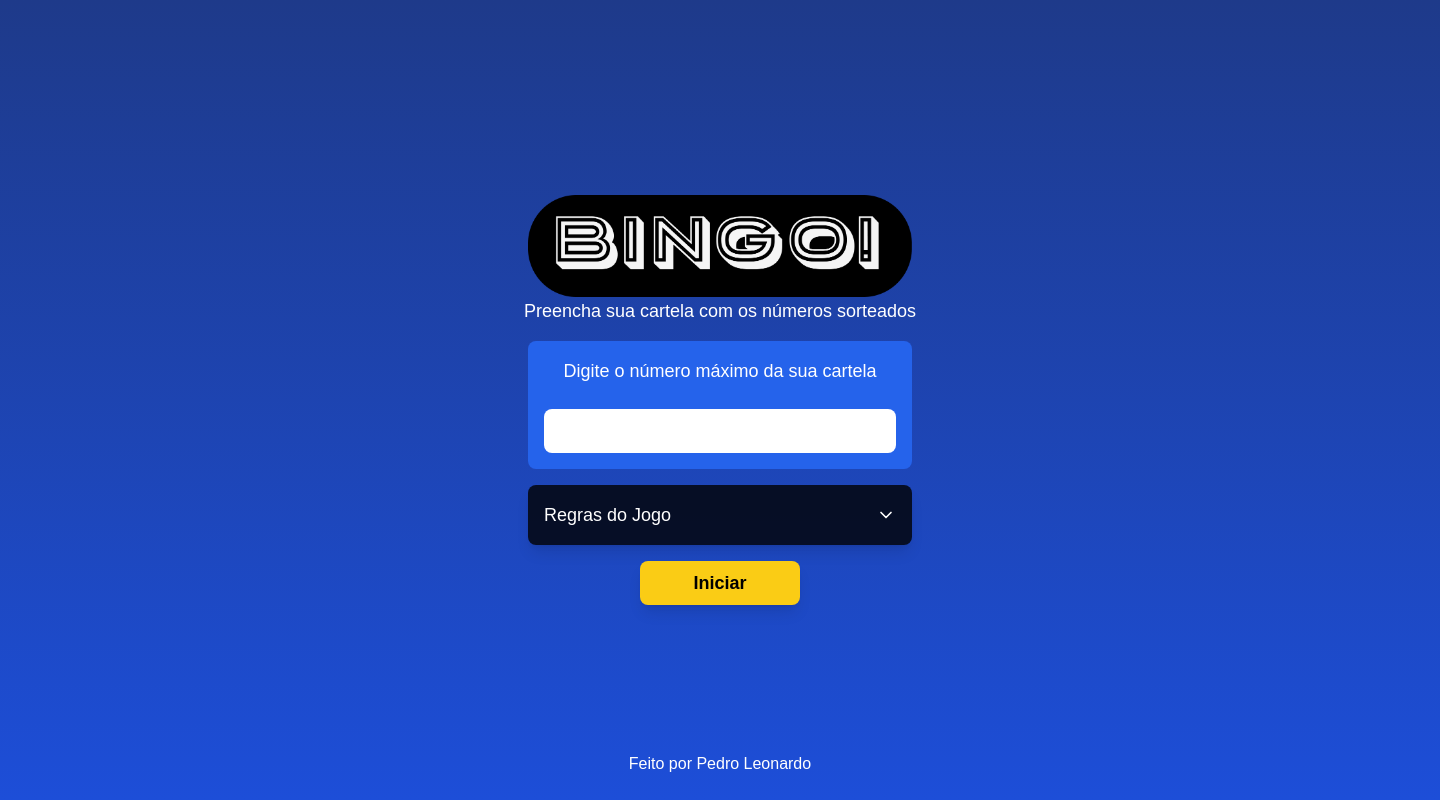
Test: Página de Bingo › deve acumular múltiplos números sorteados
This screenshot has width=1440, height=800.
In the number field named "maxLength": (720, 431) [544, 409, 896, 453], type "10"
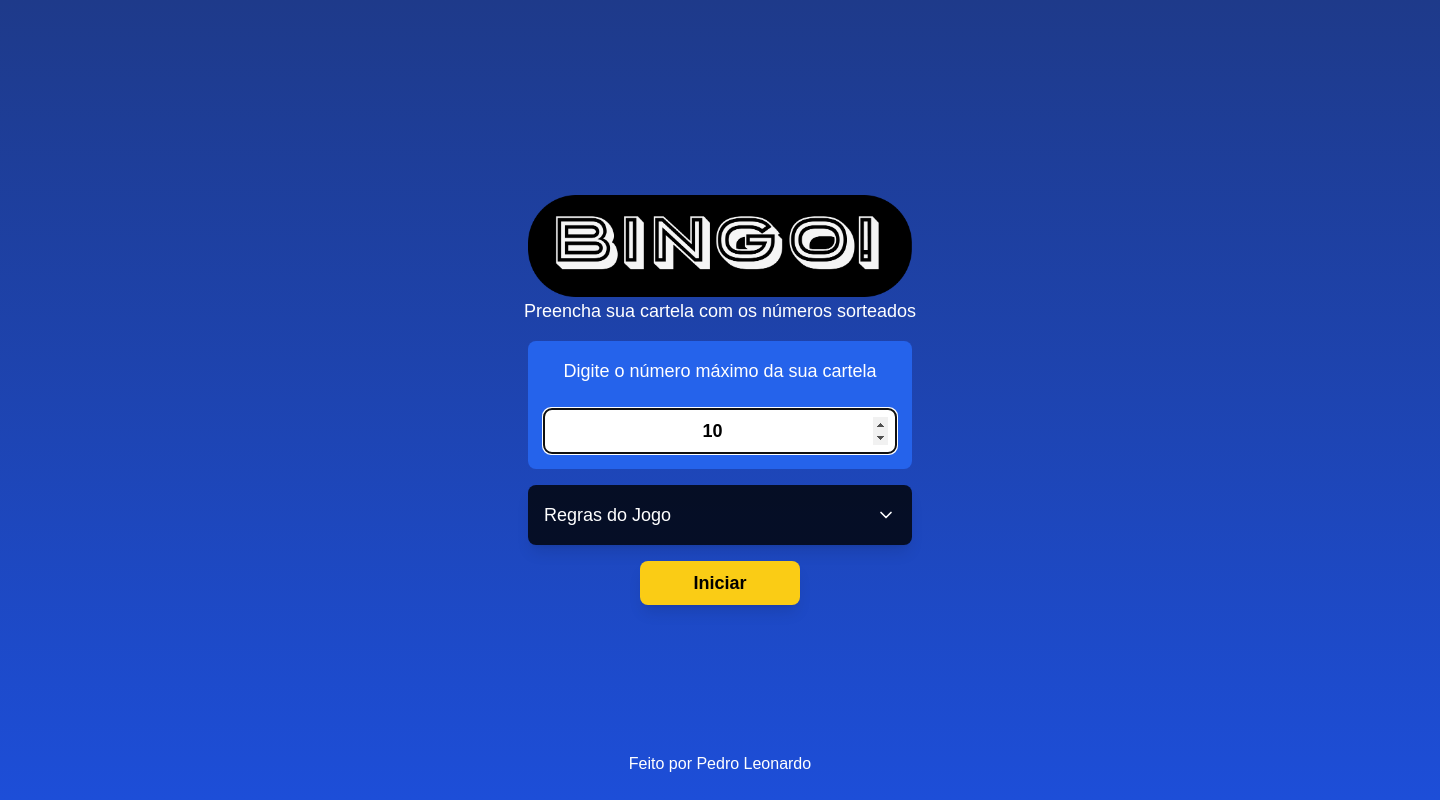
Click the button "Iniciar": (720, 583) [640, 561, 800, 605]
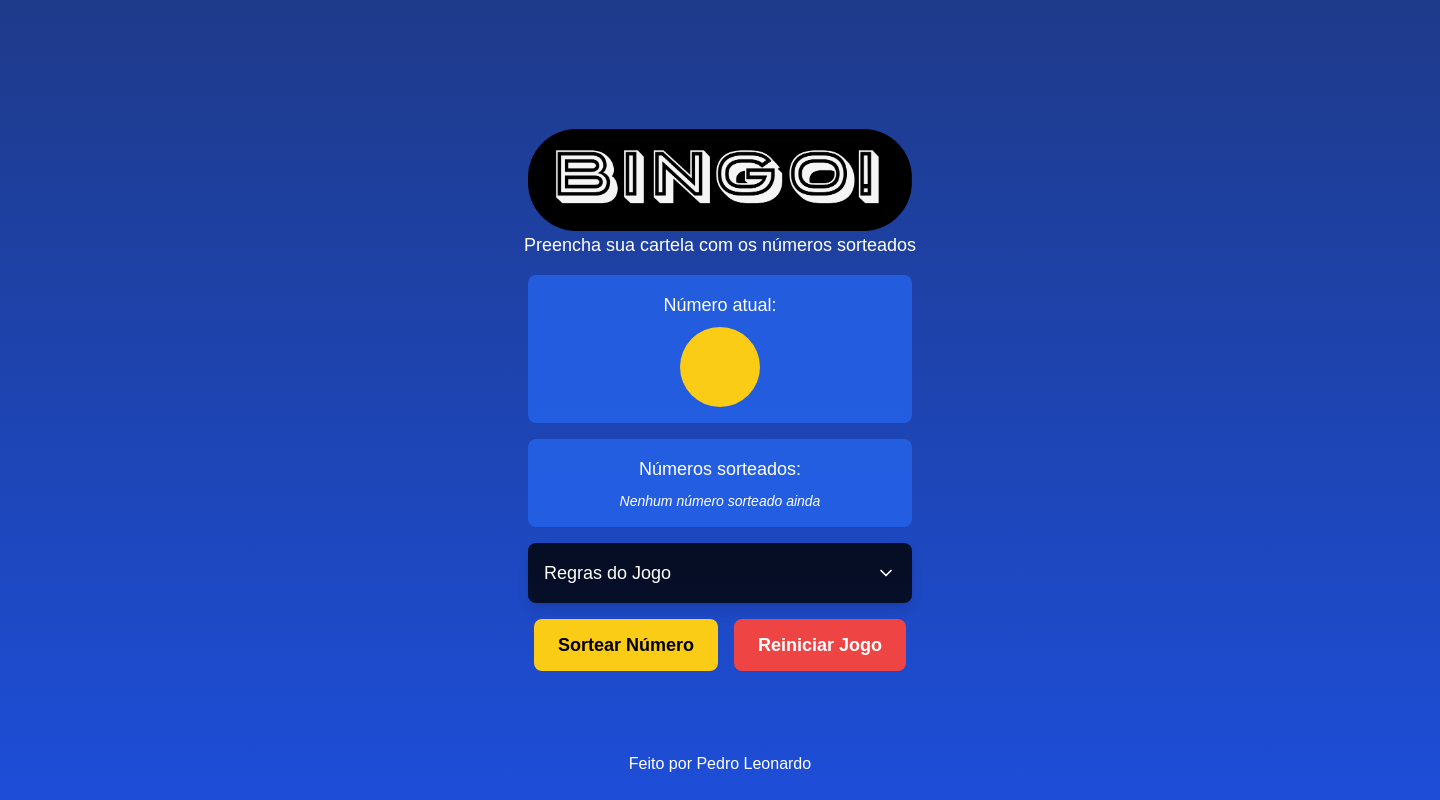
Click the button "Sortear Número": (626, 645) [534, 619, 718, 671]
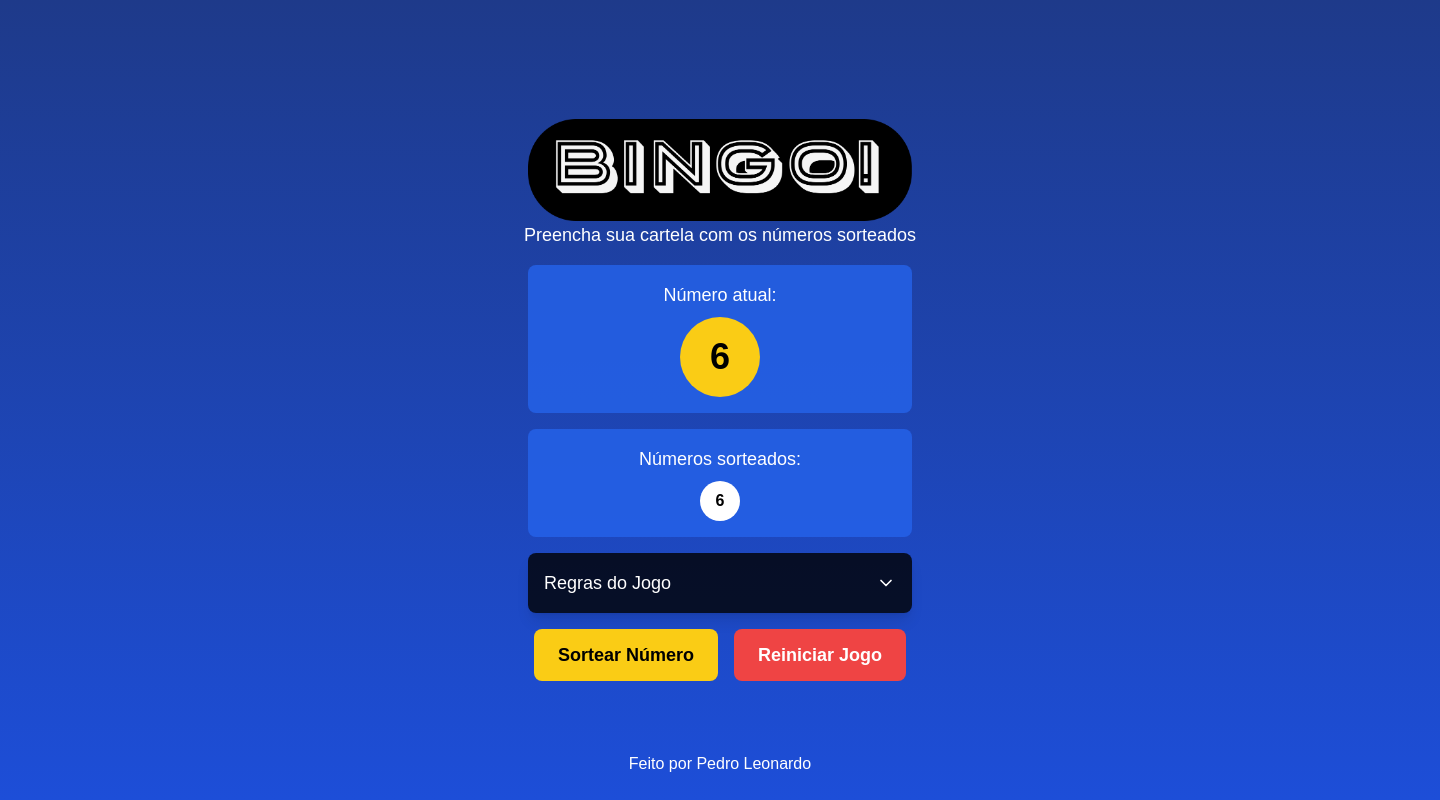
Click the button "Sortear Número": (626, 655) [534, 629, 718, 681]
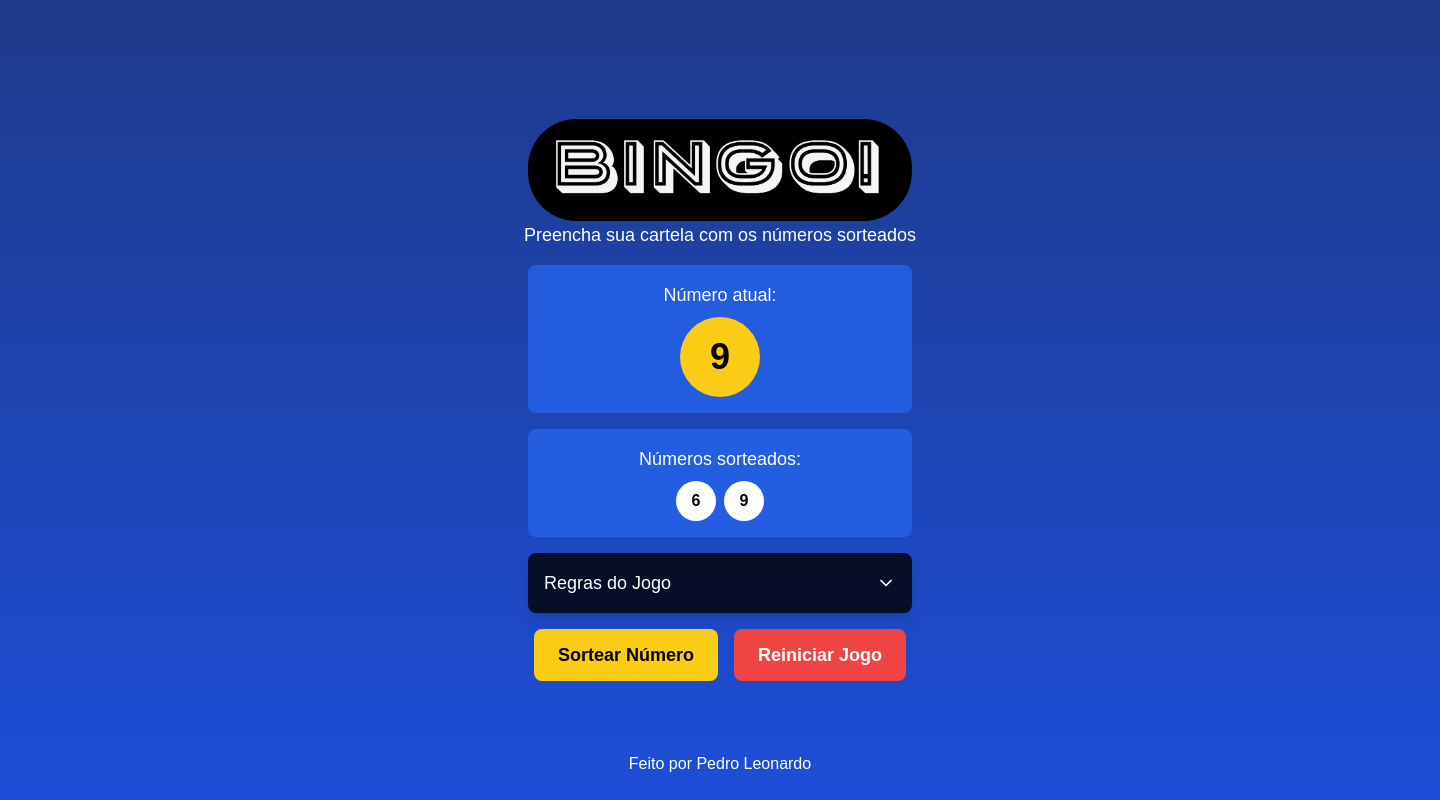
Click the button "Sortear Número": (626, 655) [534, 629, 718, 681]
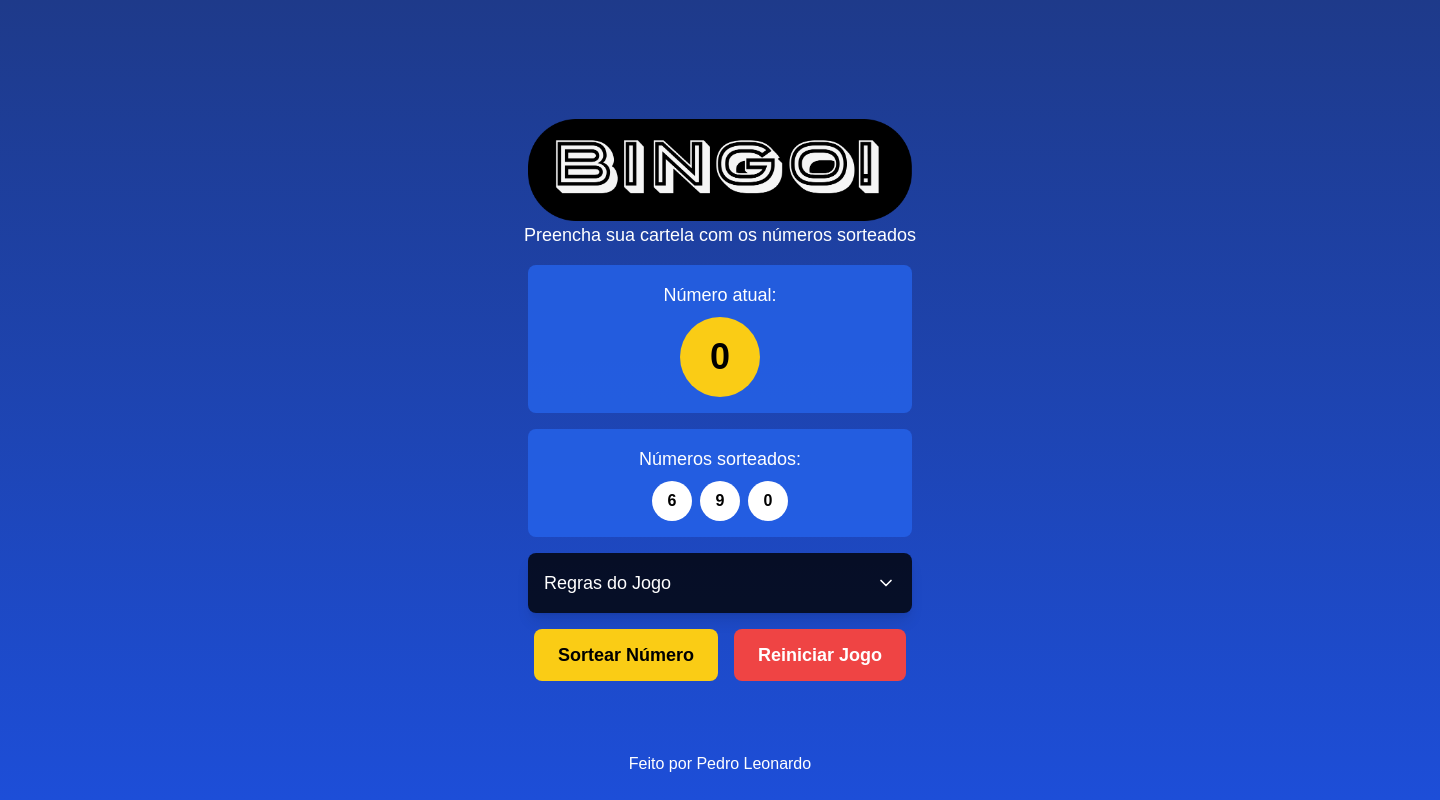
Expected: the number of elements with class "number" is 3, [652, 481, 692, 521]; [700, 481, 740, 521]; [748, 481, 788, 521]
